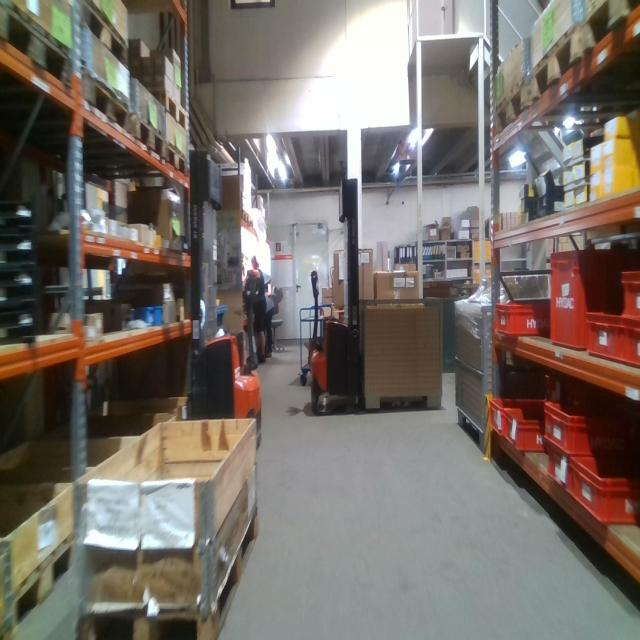pallet: (82, 498, 264, 637), (0, 524, 81, 640), (1, 2, 78, 101), (525, 21, 583, 110), (77, 63, 128, 141), (70, 5, 132, 64), (579, 2, 639, 60), (137, 80, 189, 136), (491, 75, 528, 146), (130, 119, 164, 167), (163, 144, 189, 183)
pallet_truck: (174, 144, 267, 462), (308, 164, 381, 416)
small_load_carrier: (552, 248, 640, 349), (570, 456, 639, 525), (545, 403, 638, 452), (492, 400, 548, 437), (498, 302, 550, 339), (587, 312, 622, 365), (507, 416, 544, 454), (545, 439, 571, 489), (623, 321, 640, 367), (623, 272, 638, 319)
stillage: (360, 294, 443, 415), (452, 297, 493, 457)
